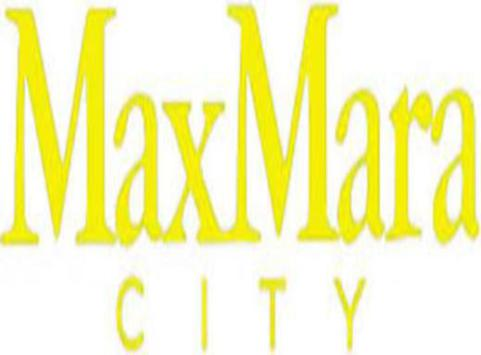MAX-MARA: (4, 7, 475, 241)
